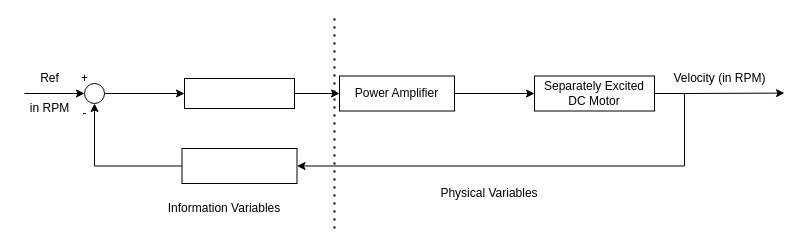
This 810x247 diagram has some shape labels left out. Here are the shapes that lost their labels. From the top down, the box of each, then its label:
(184, 78, 294, 108): Controller (PID)
(181, 148, 297, 184): Transducer
